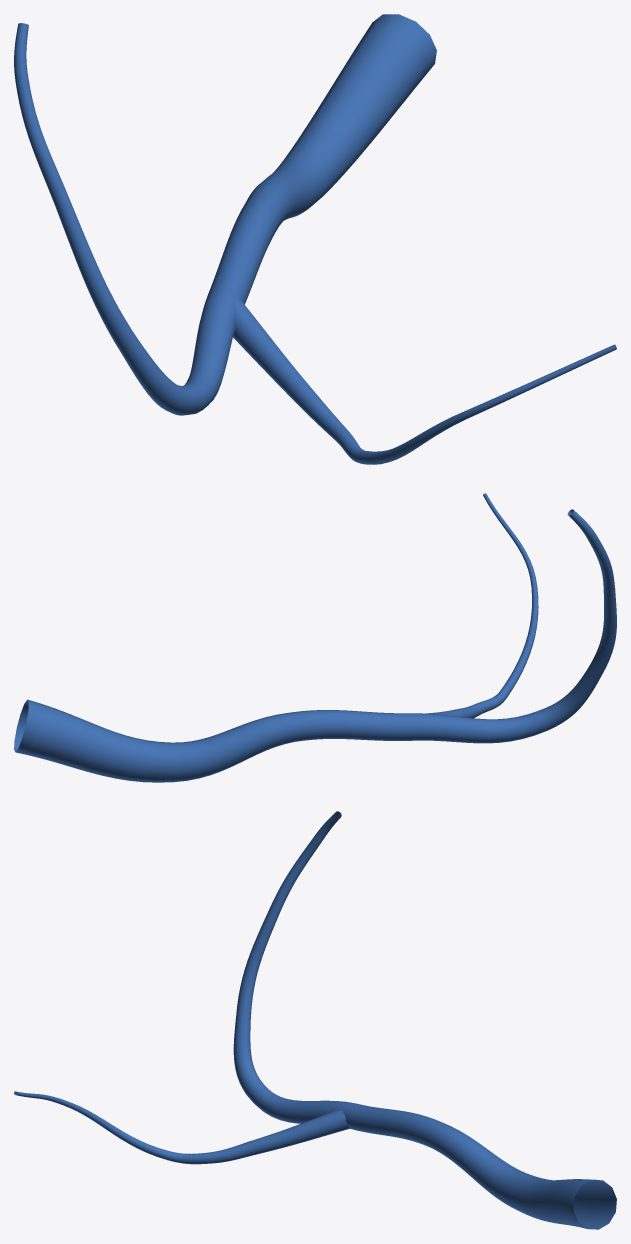
The picture shows the model from 3 angles, top to bottom: view 1: azimuth 30°, elevation 25°; view 2: azimuth 150°, elevation 25°; view 3: azimuth 270°, elevation 25°; orthographic projection. The views are drawn at different scales.
Parts seen in each view (by area): view 1: 右侧旋肱前静脉; view 2: 右侧旋肱前静脉; view 3: 右侧旋肱前静脉.
Part boxes in pixels (x1=…): 右侧旋肱前静脉: x1=14, y1=14, x2=616, y2=464; 右侧旋肱前静脉: x1=14, y1=493, x2=616, y2=782; 右侧旋肱前静脉: x1=14, y1=811, x2=616, y2=1229.
Size of the model in its own units: 0.076 by 0.0485 by 0.0952.
